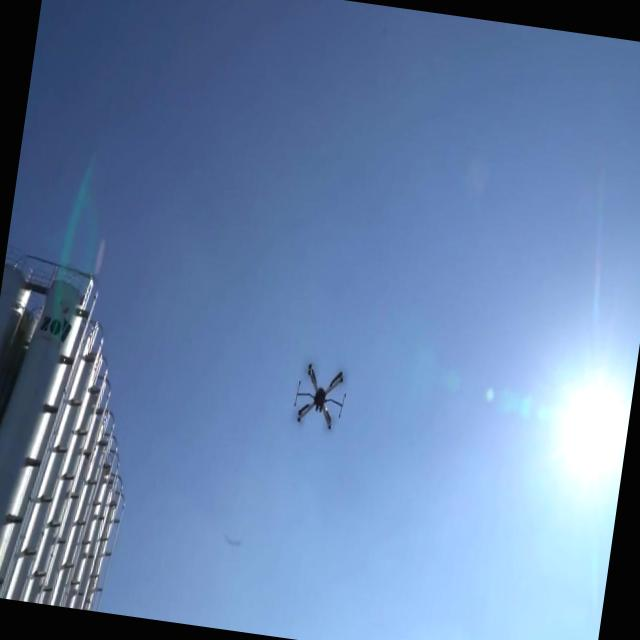drone: (289, 358, 352, 436)
